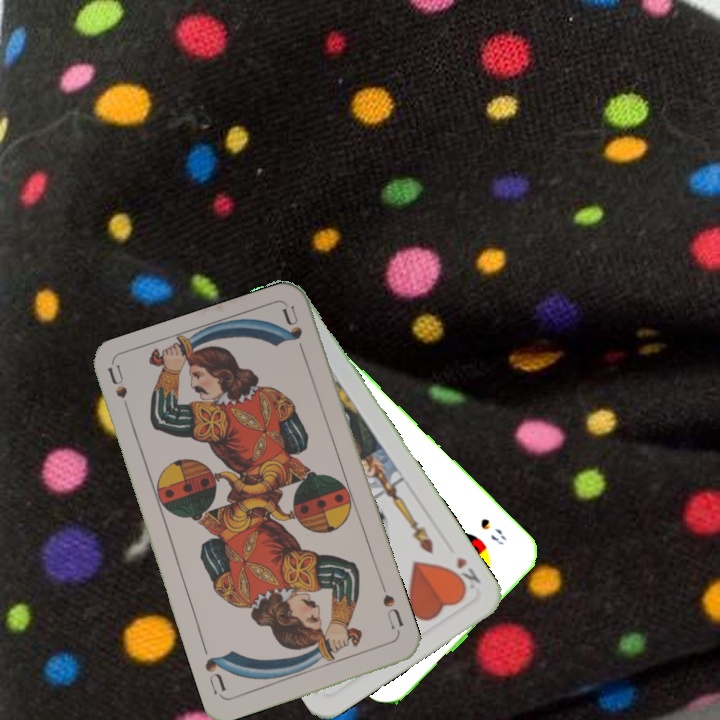HK: (446, 552, 483, 596)
S8: (476, 514, 510, 548)
SU: (104, 362, 135, 421), (377, 580, 406, 638)
